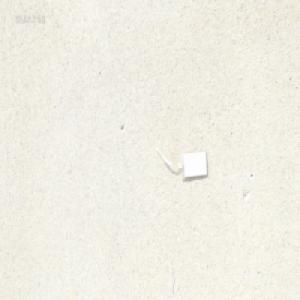LuggageTag: (154, 148, 208, 179)
